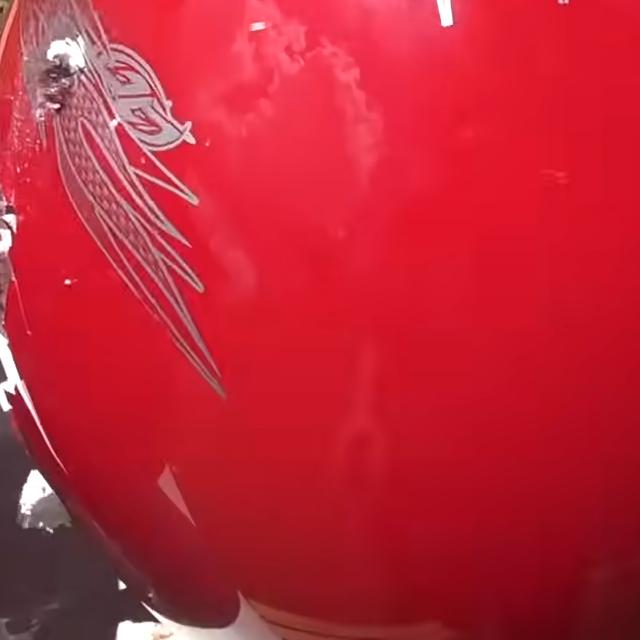bullets: (19, 40, 94, 117)
